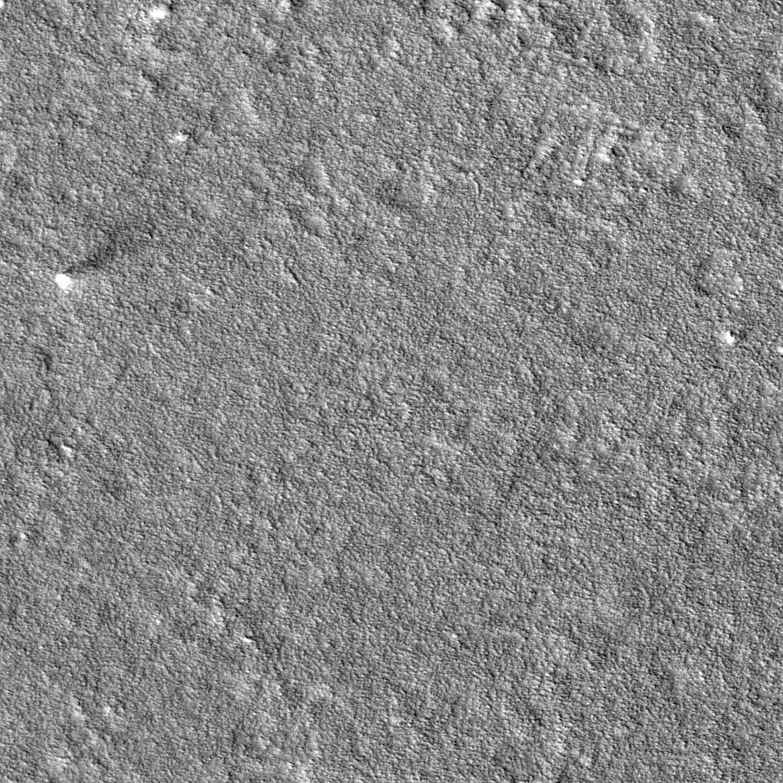dust_devil: (53, 222, 137, 294)
